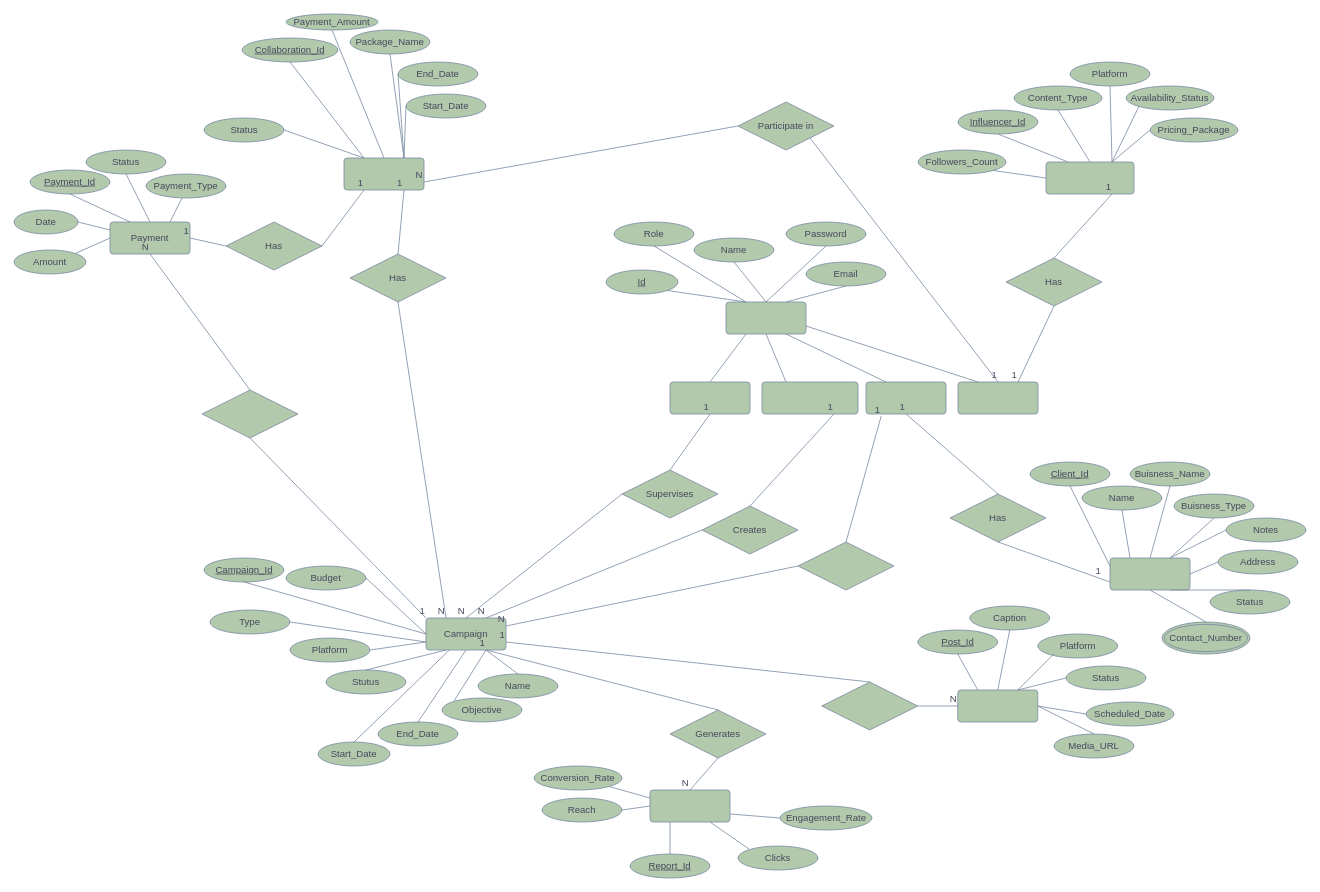
Image size: 1320x892. Some labels were removed from this diagram. The centre of each missing label's shape, as x and y in pixels:
"Admin" belongs at (x=709, y=397).
"Client" belongs at (x=905, y=397).
"Client_Datails" belongs at (x=1149, y=573).
"Collaboration" belongs at (x=383, y=173).
"Includes" belongs at (x=869, y=705).
"Influencer" belongs at (x=997, y=397).
"Influencer_Datails" belongs at (x=1089, y=177).
"Marketing_Manager" belongs at (x=809, y=397).
"Owns" belongs at (x=845, y=565).
"Post" belongs at (x=997, y=705).
"Recieves" belongs at (x=249, y=413).
"Report" belongs at (x=689, y=805).
"User" belongs at (x=765, y=317).
